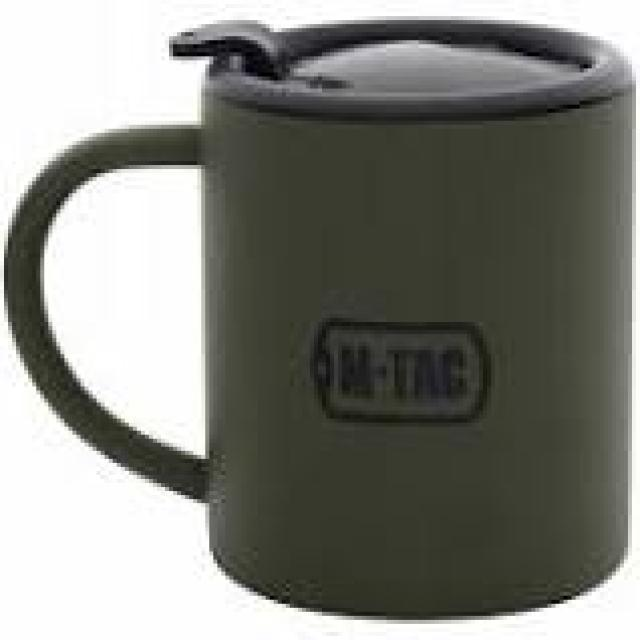taza: (4, 0, 640, 640)
